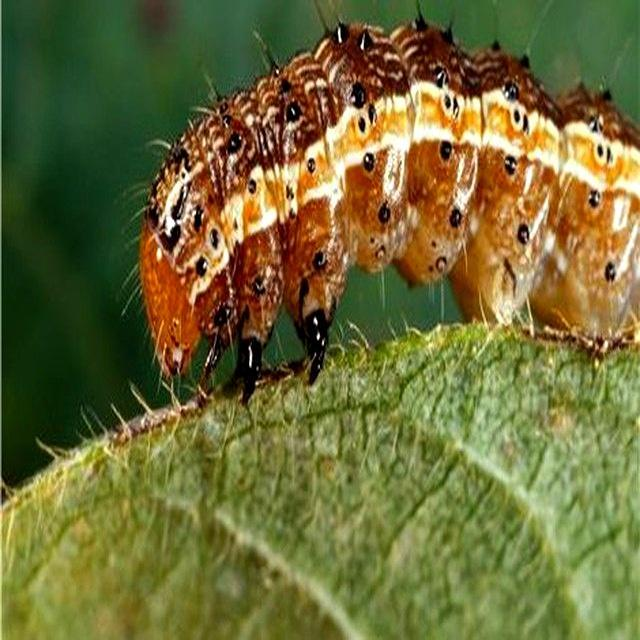Plaga: (136, 28, 640, 381)
